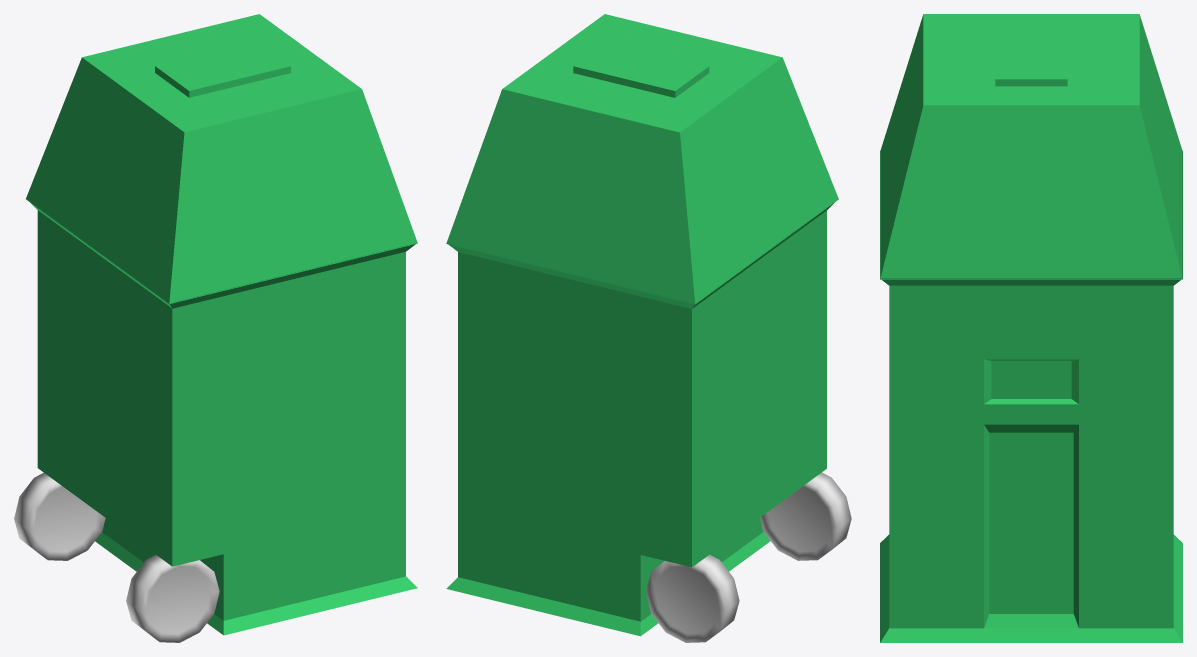
Rendered from bin.fbx.
The picture shows the model from 3 angles, left to right: view 1: azimuth 30°, elevation 25°; view 2: azimuth 150°, elevation 25°; view 3: azimuth 270°, elevation 25°; orthographic projection. The views are drawn at different scales.
Parts seen in each view (by area): view 1: Bin, BinCover, Wheel, Wheel.001; view 2: Bin, BinCover, Wheel.001, Wheel; view 3: Bin, BinCover.
Part boxes in pixels (<box>): Bin: <box>30,202,417,635</box>; BinCover: <box>26,14,417,303</box>; Wheel: <box>126,555,219,642</box>; Wheel.001: <box>14,473,105,560</box>; Bin: <box>446,198,838,636</box>; BinCover: <box>446,14,838,304</box>; Wheel.001: <box>646,554,739,642</box>; Wheel: <box>760,472,851,560</box>; Bin: <box>880,151,1182,642</box>; BinCover: <box>880,14,1182,279</box>.
Bounding box in the file's own units: 2.7 × 4.82 × 2.48.
